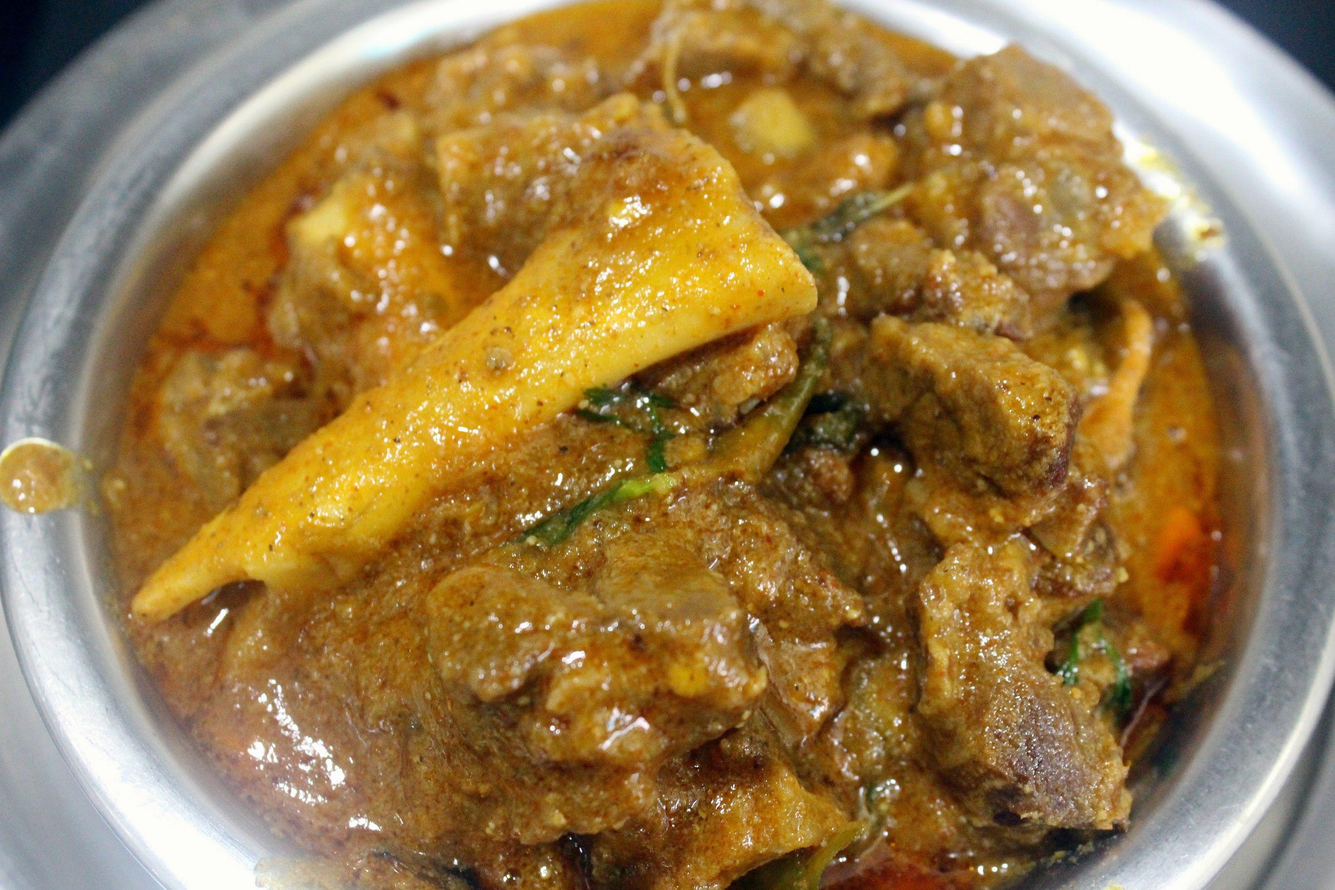MuttonCurry: (109, 1, 1222, 890)
